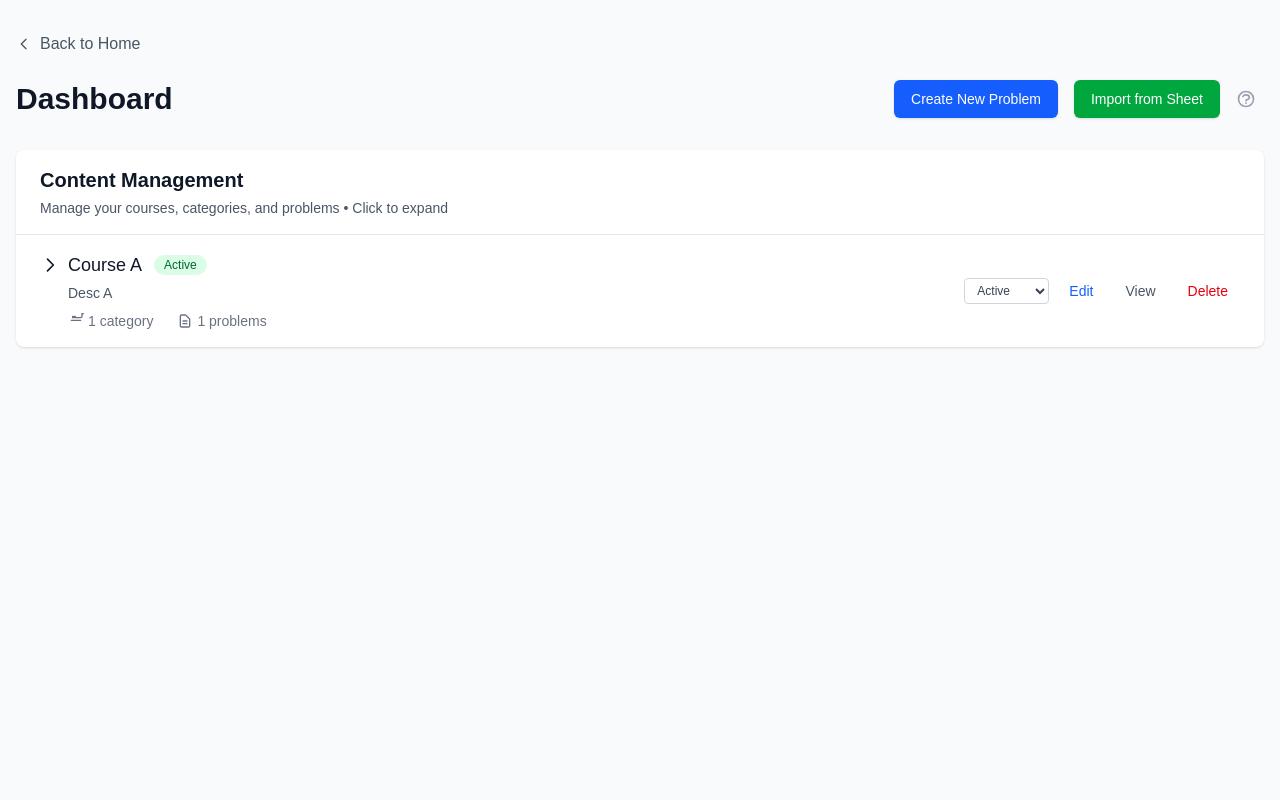
TeacherClient › shows import success modal with stats
Click the button "Import from Sheet" at (1147, 99), box x1=1074 y1=80 x2=1220 y2=118
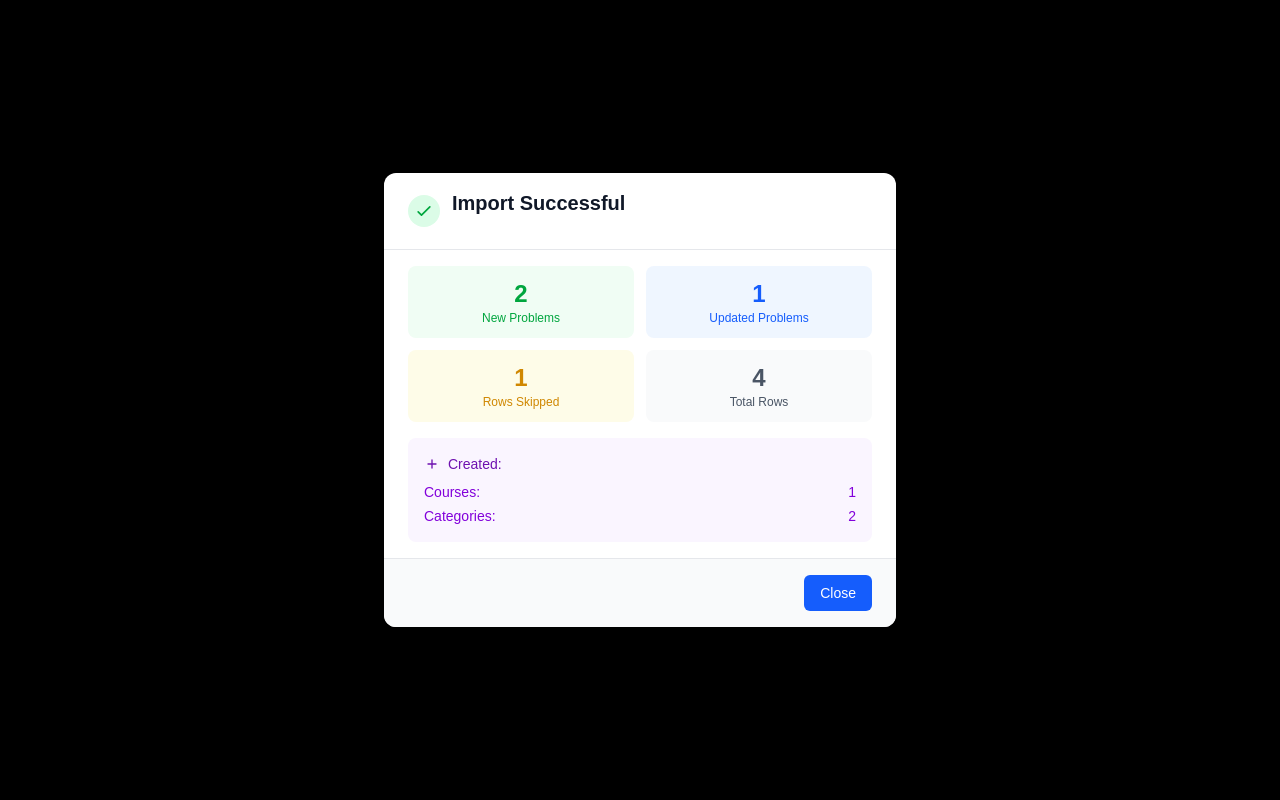
Now the heading "Import Successful" is shown, box x1=452 y1=189 x2=625 y2=217
Now the text "New Problems" is shown, box x1=482 y1=311 x2=560 y2=325
Now the text "Courses:" is shown, box x1=424 y1=482 x2=480 y2=502
